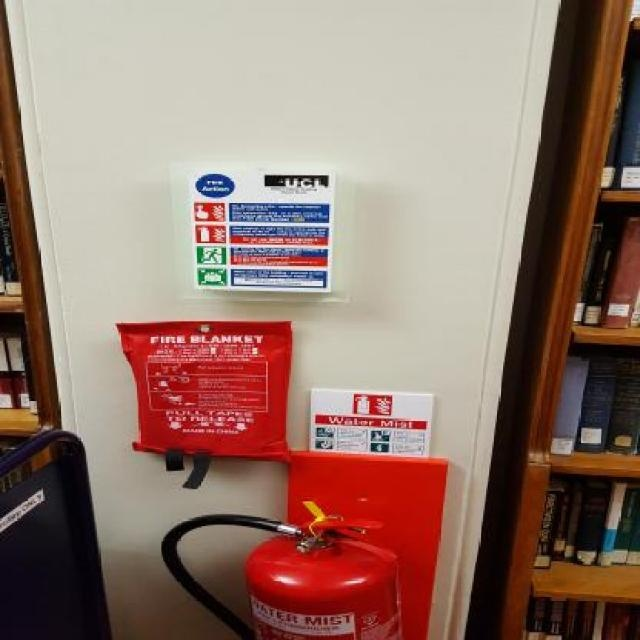fire extinguisher: (162, 512, 403, 640)
